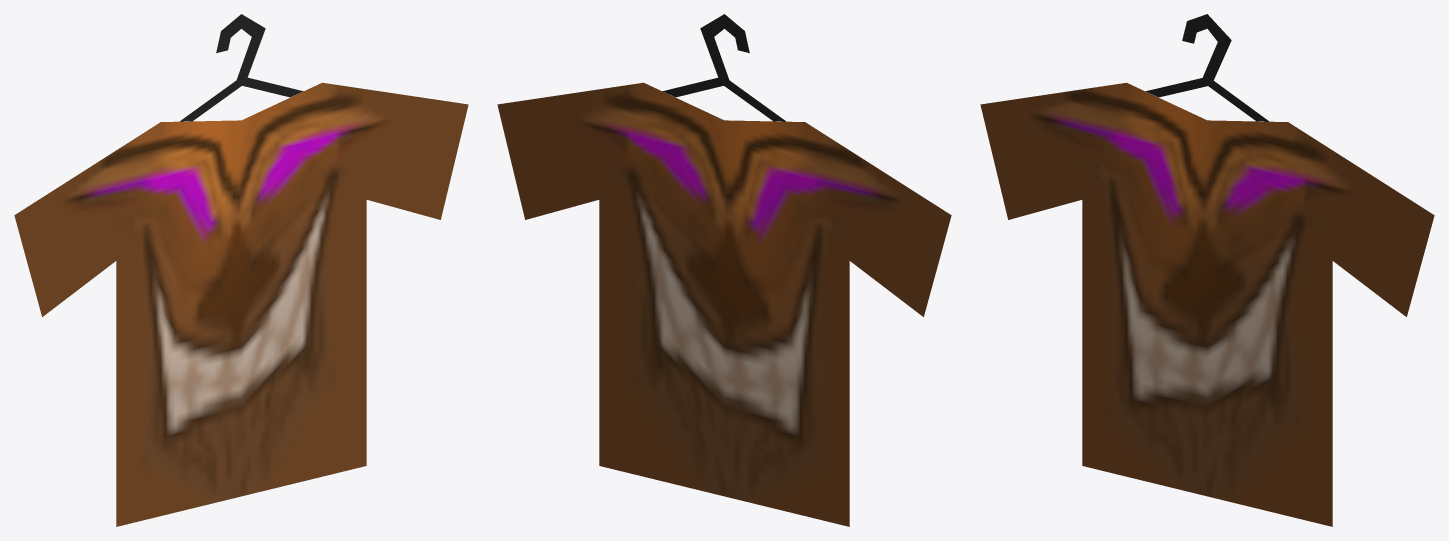
The model's file is Shirt_Tiki.fbx.
3 views of the same model, side by side, from view 1: azimuth 30°, elevation 25°; view 2: azimuth 150°, elevation 25°; view 3: azimuth 330°, elevation 25° (orthographic).
Parts seen in each view (by area): view 1: Shirt_Tiki; view 2: Shirt_Tiki; view 3: Shirt_Tiki.
Part boxes in pixels (x1=…): Shirt_Tiki: x1=14, y1=14, x2=468, y2=526; Shirt_Tiki: x1=497, y1=14, x2=951, y2=526; Shirt_Tiki: x1=980, y1=14, x2=1434, y2=526.
Size of the model in its own units: 72.56 by 73.63 by 0.
